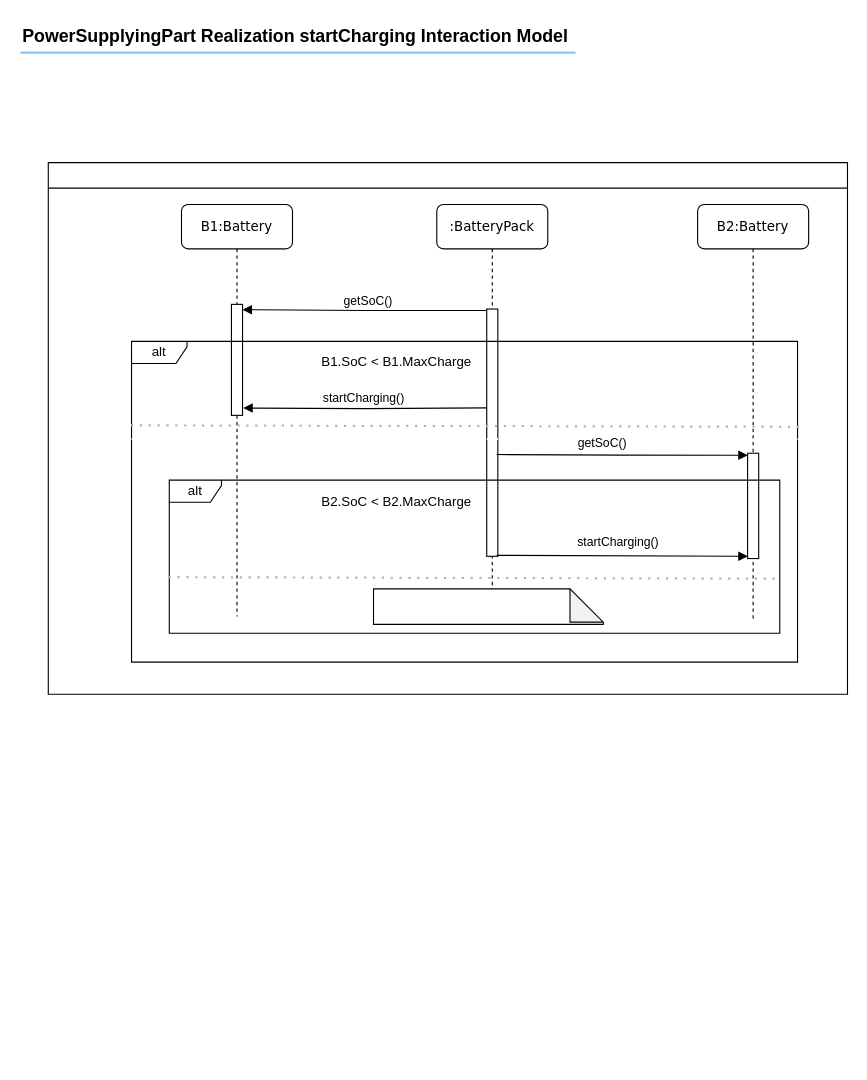
The diagram is 867 pixels wide and 1080 high, and some of its shapes have lost their labels. The shapes that lost their labels are listed below. From the top down, each one's box as (x1, y1, x2, y2) in pixels, then its label:
(47, 162, 847, 694): startCharging
(372, 588, 603, 624): no battery can be charged
